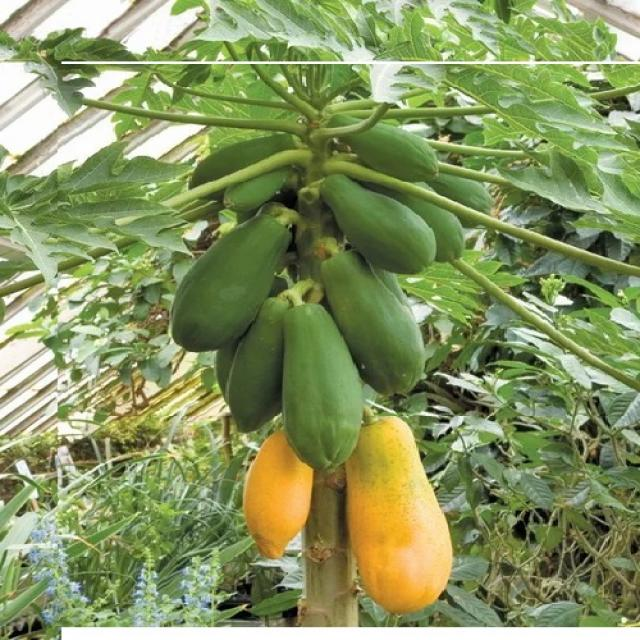Pepaya rippen: (349, 411, 468, 617), (245, 434, 316, 555)
Pepaya unrippen: (320, 242, 435, 397), (168, 206, 289, 352), (276, 311, 364, 466), (324, 170, 443, 272)
